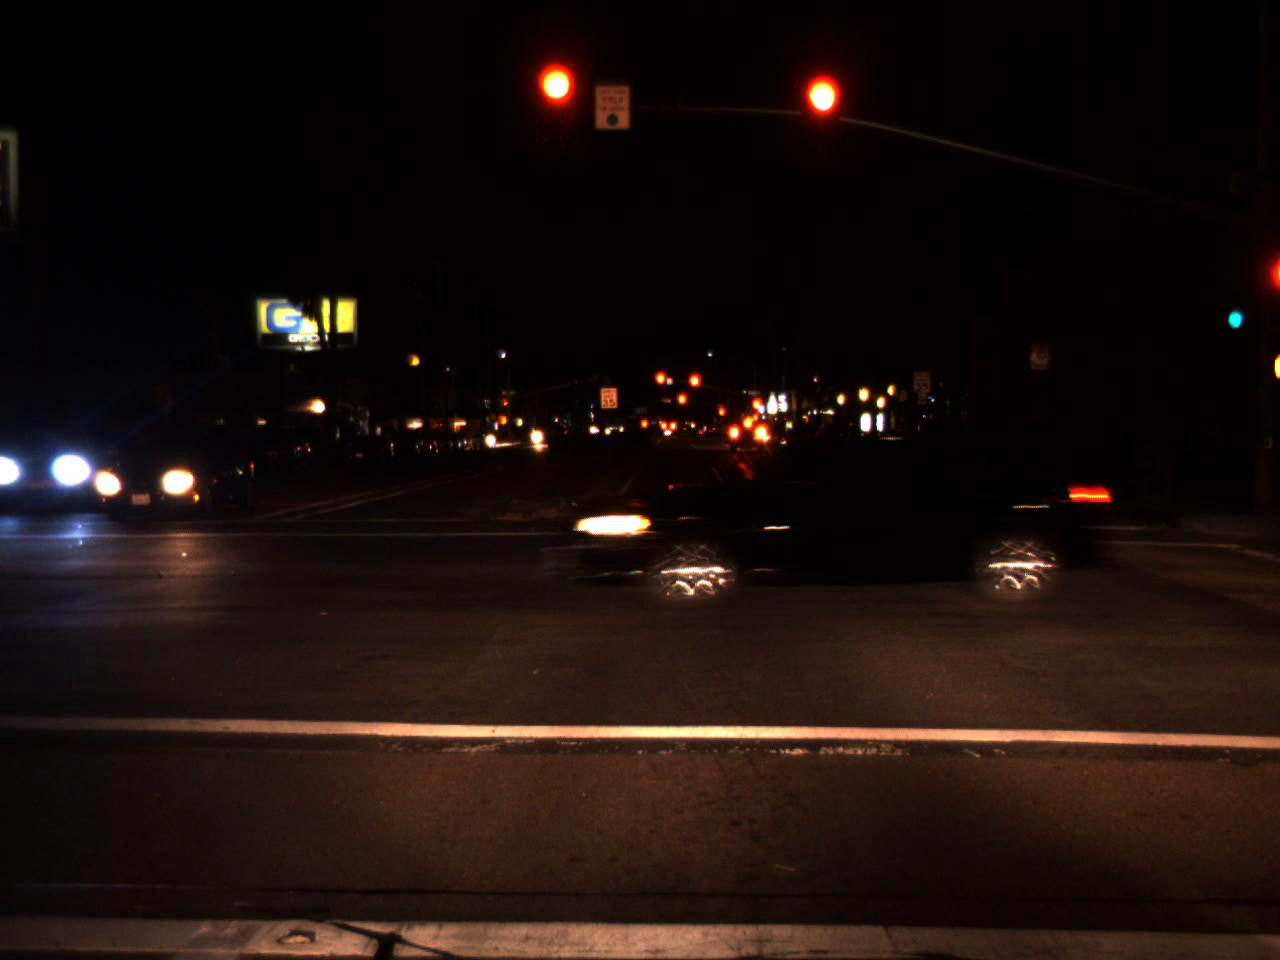stop: (536, 65, 577, 143), (802, 74, 842, 152), (686, 371, 702, 403), (653, 370, 668, 399), (675, 391, 688, 418), (749, 396, 764, 412), (717, 406, 727, 427), (502, 400, 508, 410)
